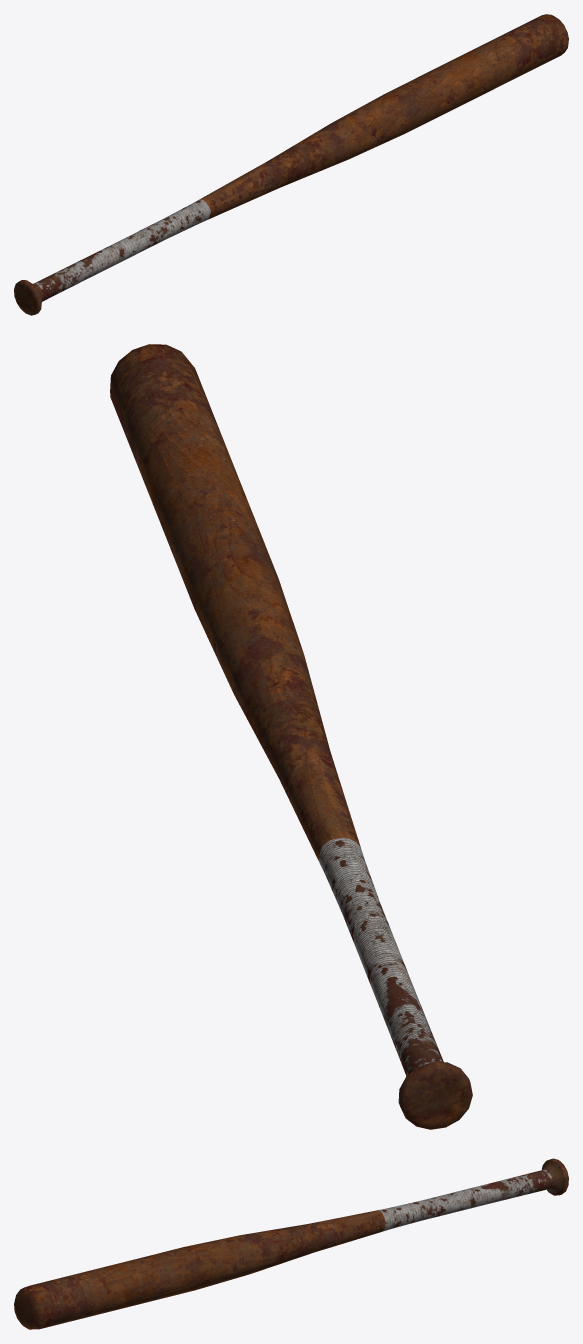
The model's file is Anim_idle_bate_objetos.0030.obj.
3 views of the same model, one above another, from view 1: azimuth 90°, elevation 25°; view 2: azimuth 150°, elevation 25°; view 3: azimuth 270°, elevation 25° (orthographic). The views are drawn at different scales.
Parts seen in each view (by area): view 1: Bate1; view 2: Bate1; view 3: Bate1.
Boxes of the visible parts, x1,y1,x2,y2 form: Bate1: (14, 14, 568, 315); Bate1: (110, 344, 472, 1129); Bate1: (14, 1158, 568, 1329).
Bounding box in the file's own units: 3.72 × 0.8439 × 4.14.
